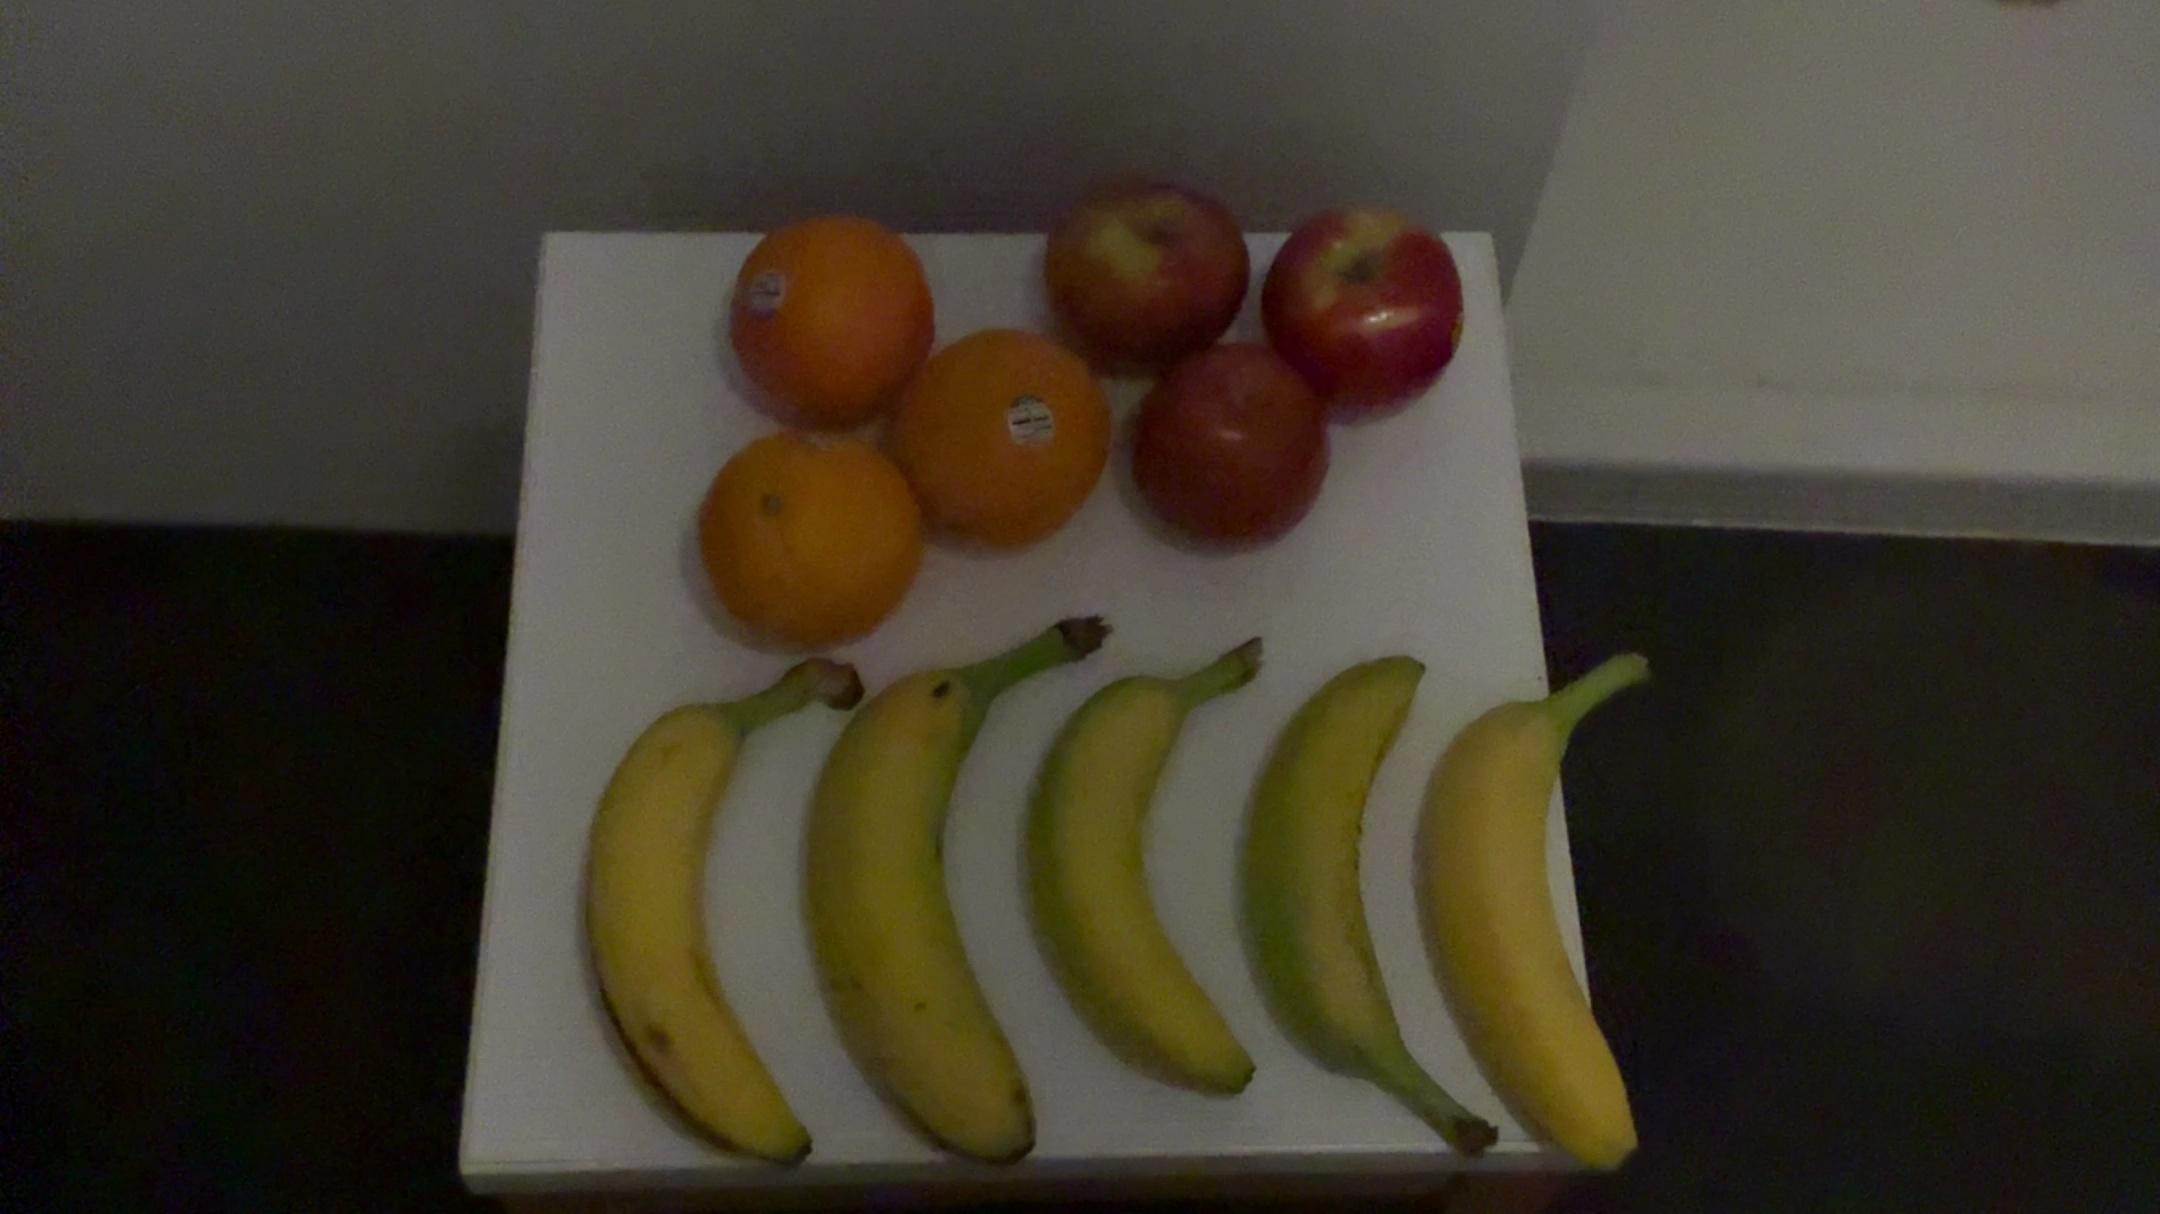apple: (1262, 197, 1476, 413), (1050, 160, 1251, 375), (1125, 353, 1334, 549)
banana: (801, 597, 1093, 1181), (1411, 619, 1687, 1190), (571, 647, 857, 1183), (1228, 641, 1507, 1167), (1019, 620, 1276, 1103)
orange: (687, 421, 936, 652), (715, 197, 938, 432), (900, 307, 1093, 565)
